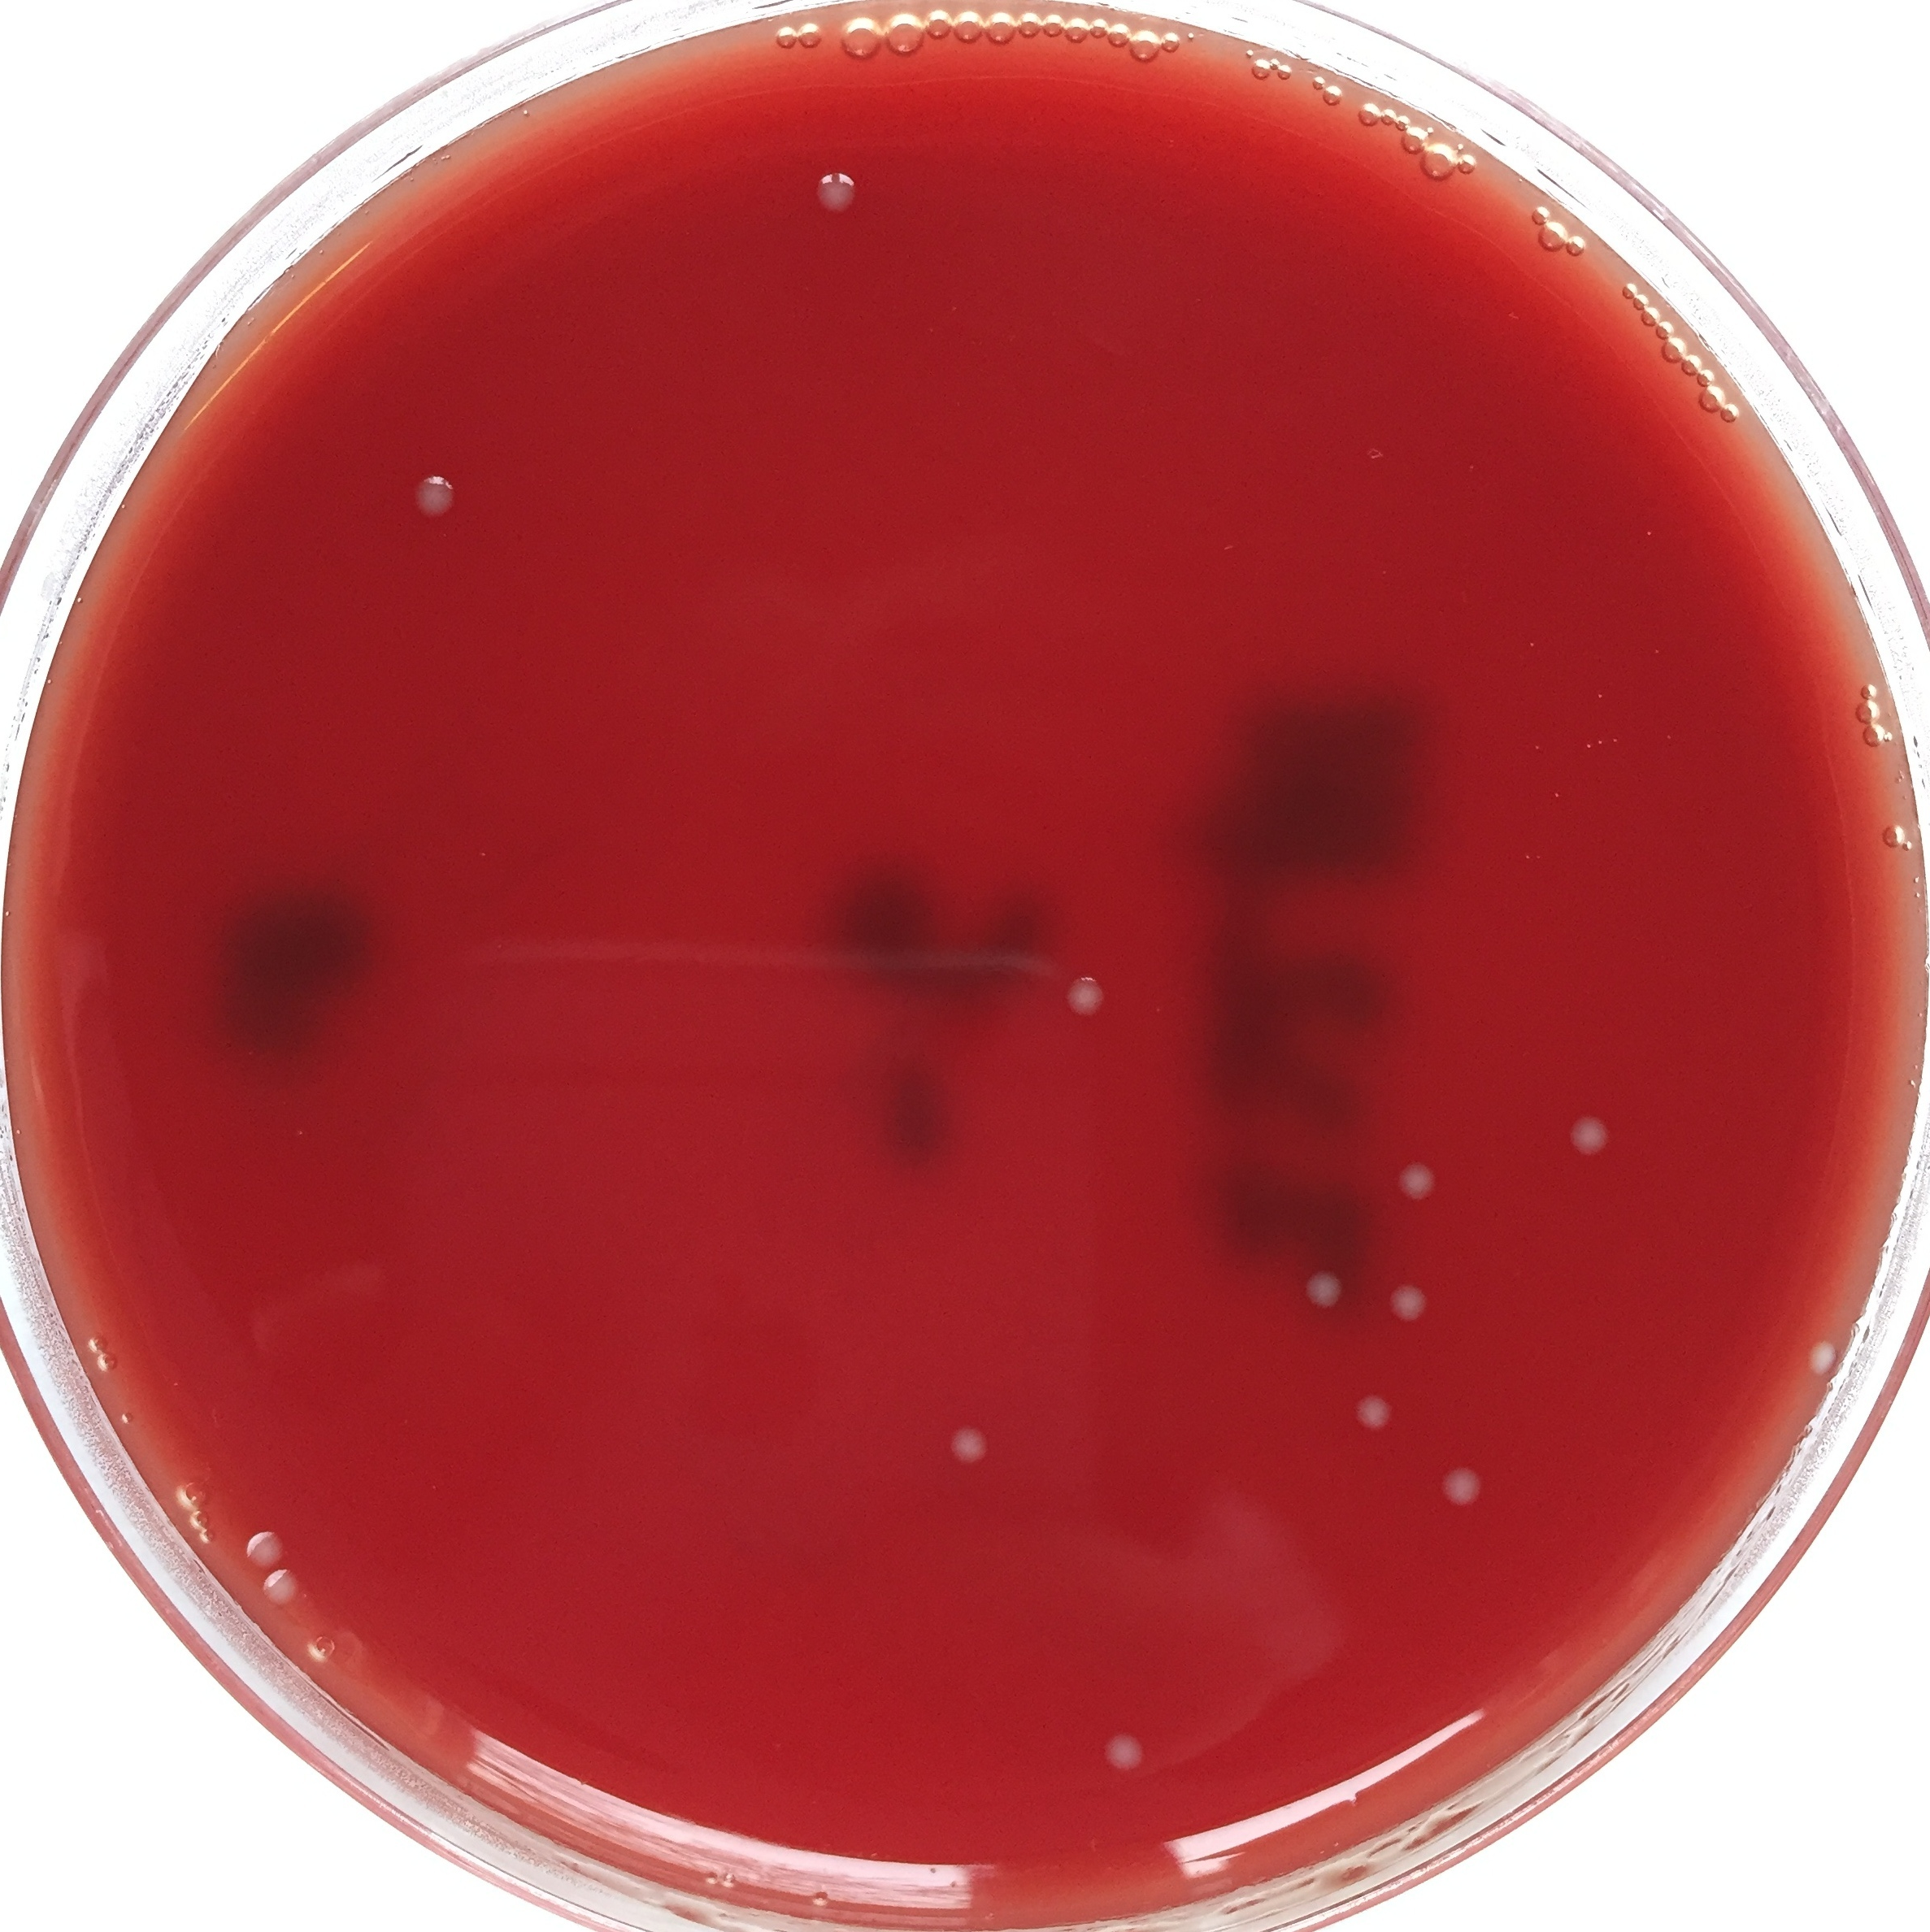sp14: (1375, 1267, 1449, 1335), (792, 161, 861, 230), (1561, 1101, 1624, 1172), (1060, 949, 1113, 1032), (1375, 1160, 1446, 1220), (1341, 1386, 1396, 1451), (1290, 1262, 1349, 1320), (935, 1416, 995, 1471), (1435, 1458, 1495, 1513), (401, 470, 460, 521), (263, 1557, 306, 1616), (1099, 1723, 1144, 1776), (235, 1511, 279, 1563), (1785, 1342, 1843, 1377)
